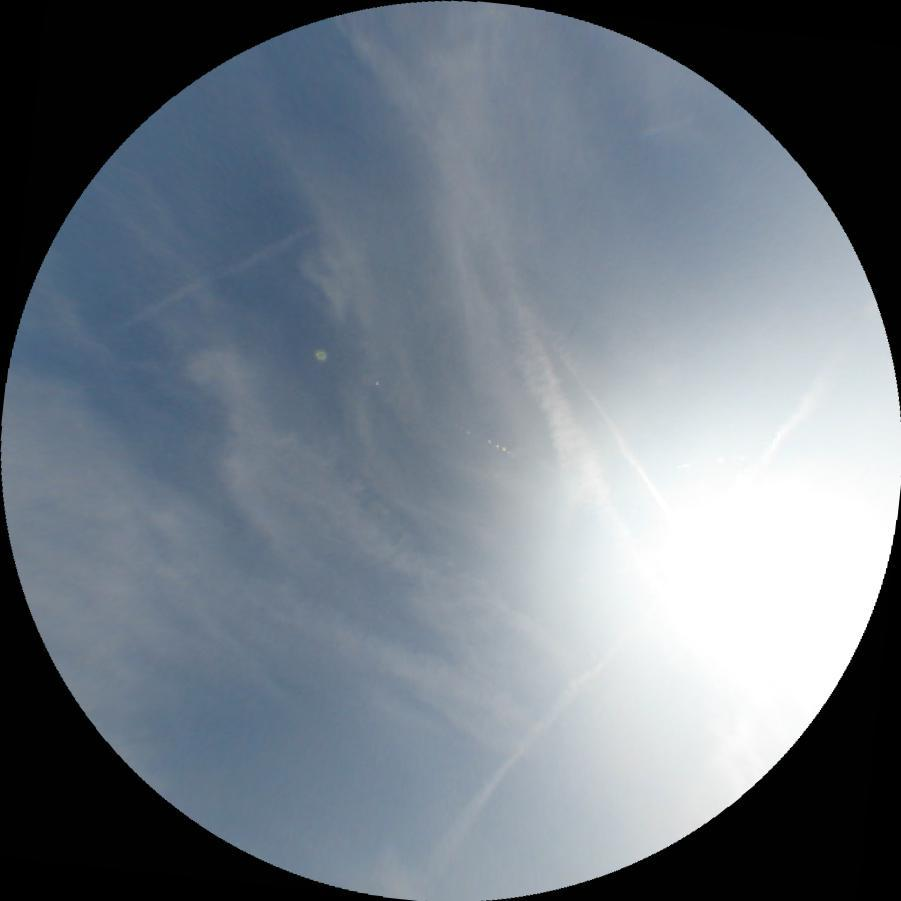contrail old: (416, 381, 824, 882), (542, 322, 677, 522)
contrail veryold: (131, 327, 591, 733), (183, 520, 531, 765), (482, 283, 635, 564), (98, 223, 318, 337)
